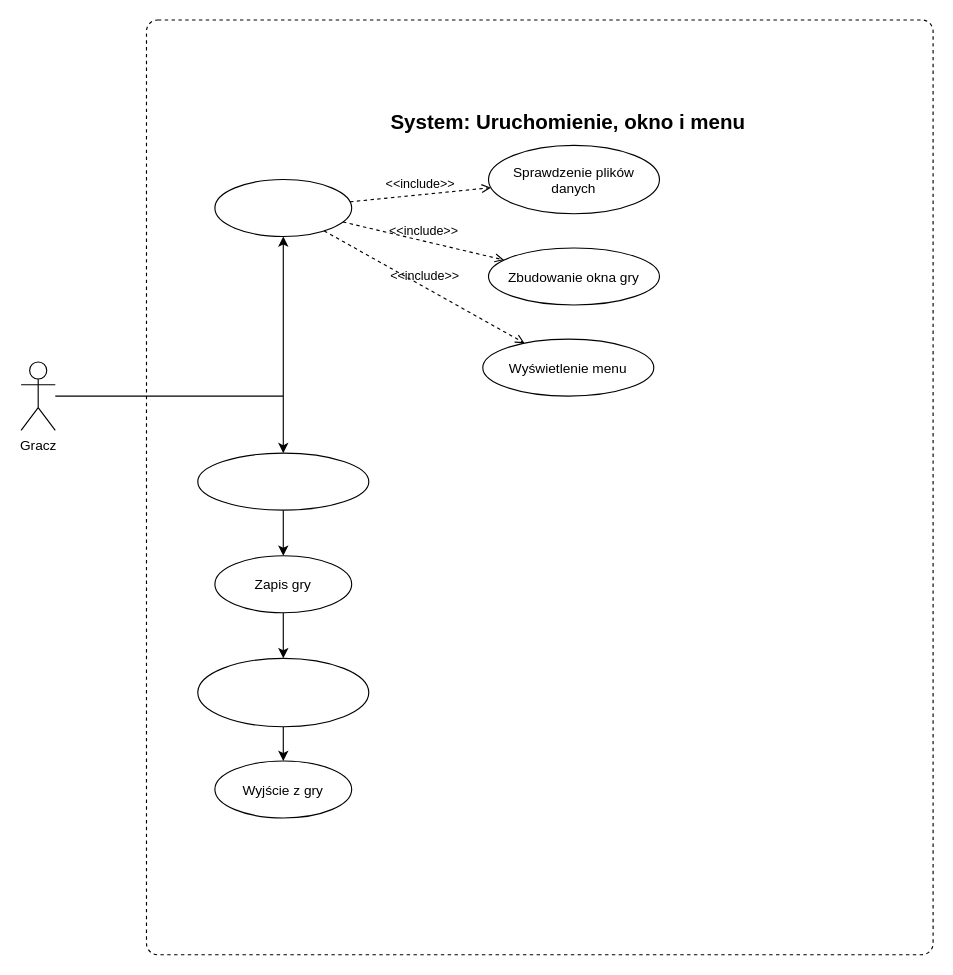
The diagram is 953 pixels wide and 975 high, and some of its shapes have lost their labels. Each missing label, with the centre of its shape:
Rozpoczęcie nowej gry: pixel 283 481
Uruchomienie gry: pixel 283 207
Wczytanie zapisu (Kontynuuj): pixel 283 692
